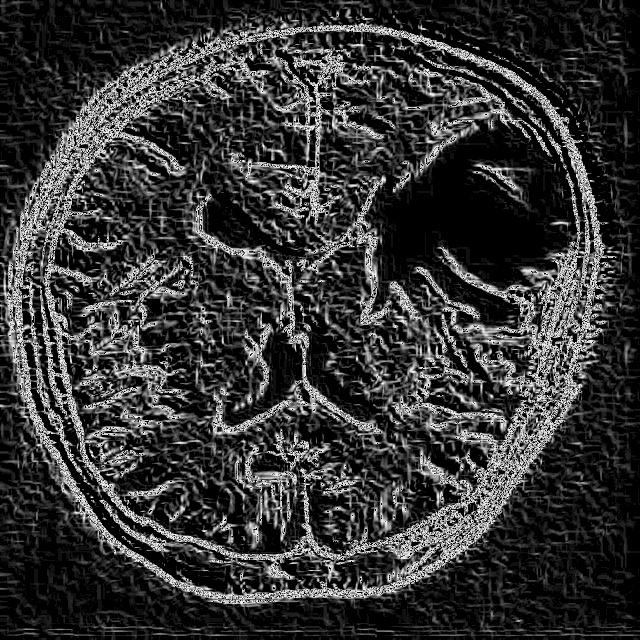Brain-Tumor: (346, 99, 588, 342)
